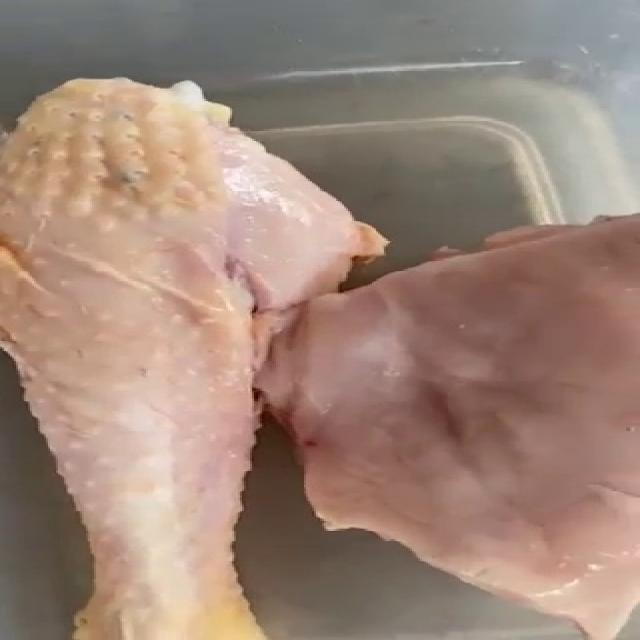chicken: (0, 82, 640, 640)
